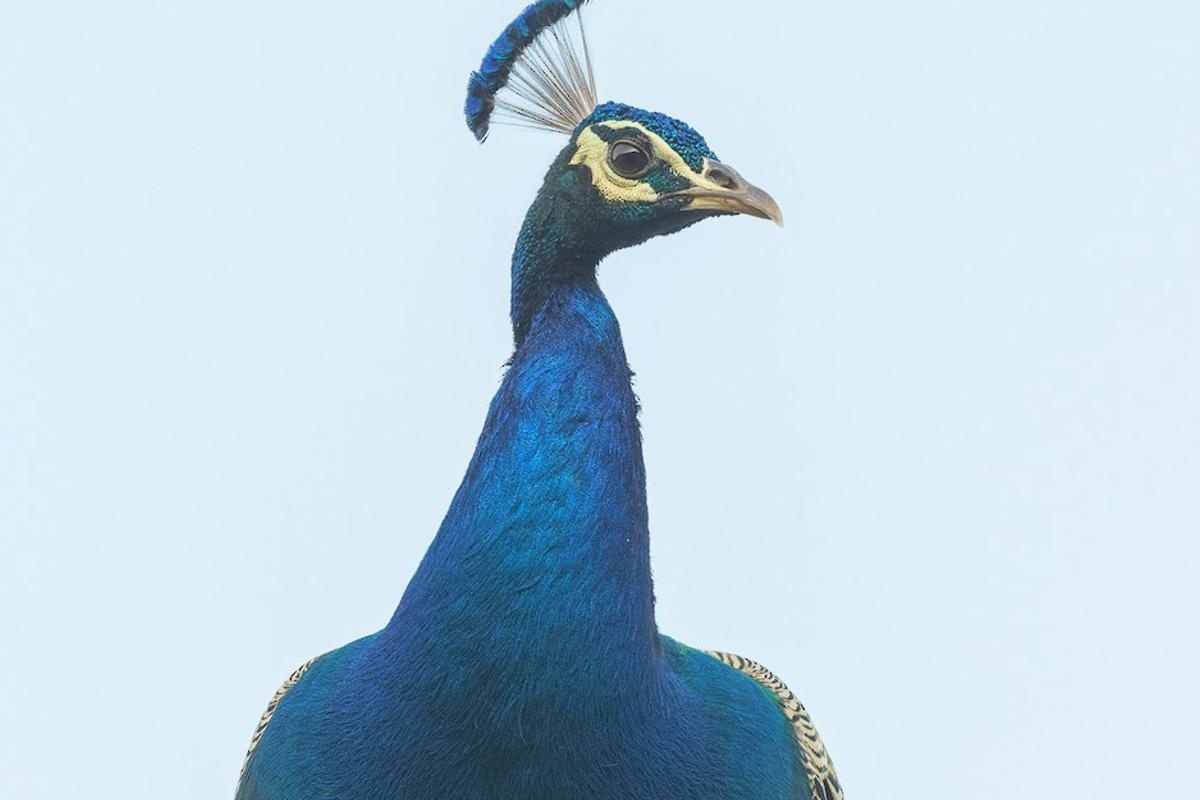peacock: (117, 21, 883, 800)
